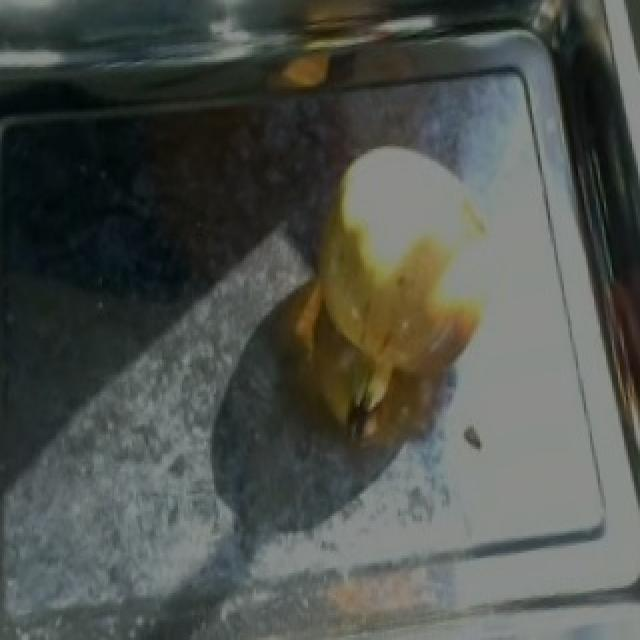fruit: (300, 121, 514, 335)
